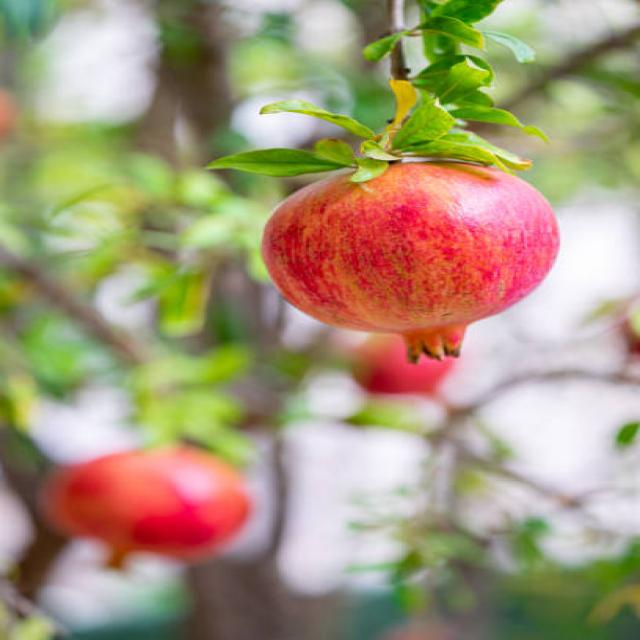Ripe: (245, 148, 572, 368), (40, 434, 262, 568)
